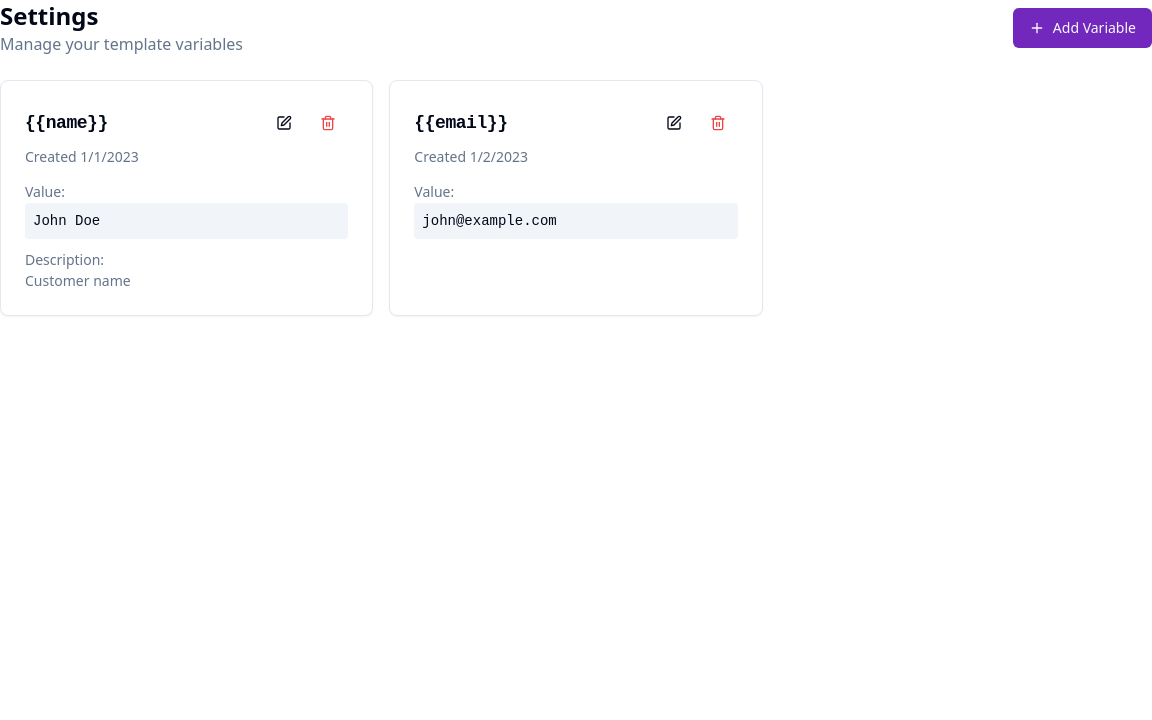
Test case: Settings › should open add variable dialog when button is clicked
What coordinates should you click on to do the following:
click the button "Add Variable"
I would click on:
 (1082, 28)
Its box is x1=1013 y1=8 x2=1151 y2=48.
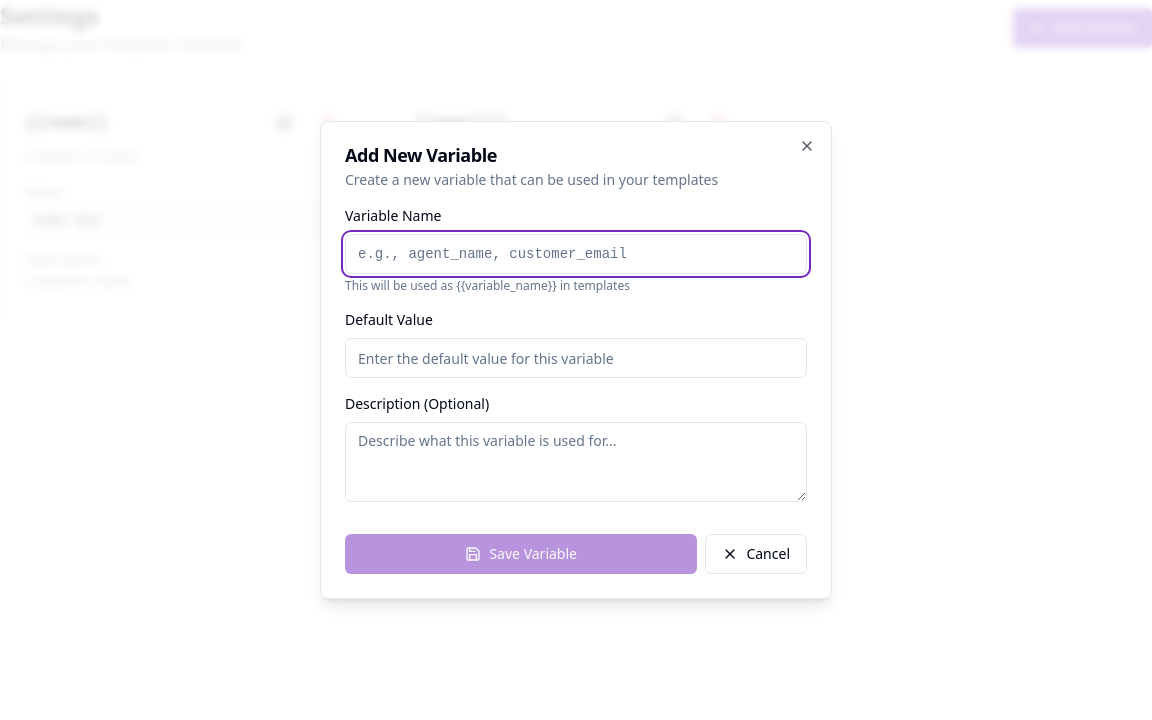
Result: the heading "Add New Variable" is shown at x1=345 y1=143 x2=497 y2=167
Result: the field labelled "Variable Name" is shown at x1=345 y1=234 x2=807 y2=274
Result: the field labelled "Default Value" is shown at x1=345 y1=338 x2=807 y2=378
